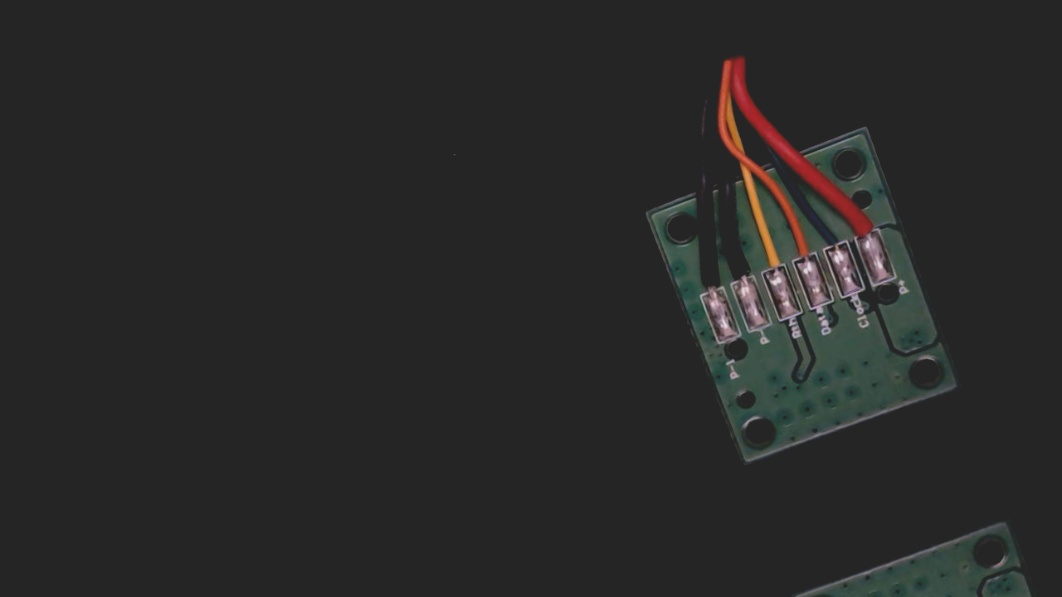Black: (717, 237, 761, 296)
Black1: (684, 248, 728, 310)
Green: (810, 206, 853, 263)
Orange: (780, 219, 823, 275)
Red: (838, 186, 885, 251)
Yellow: (750, 228, 792, 287)
